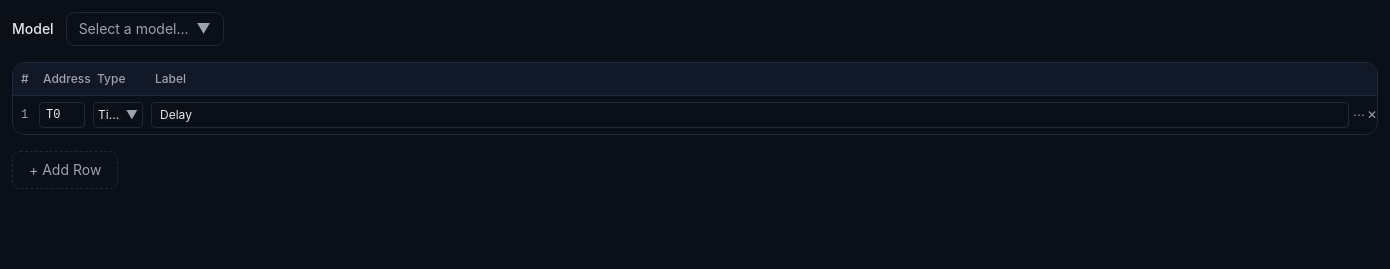
M3 — Preset validation UI (Timer/Counter K-constant) › shows no preset error for Timer with valid K50
This screenshot has width=1390, height=269.
// expand row to reveal defaultValue input
Click the button with test id "io-more-0".
click(1359, 115)  # box left=1353, top=103, right=1365, bottom=127
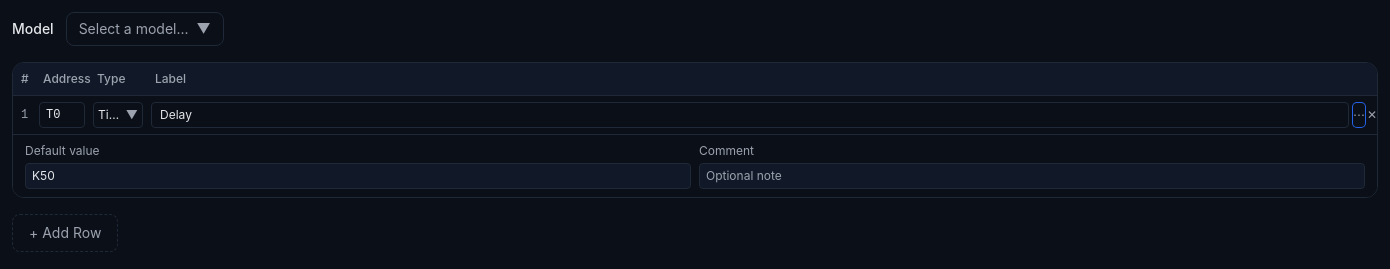
Expected: the field with test id "io-default-0" is shown, left=25, top=163, right=691, bottom=189
